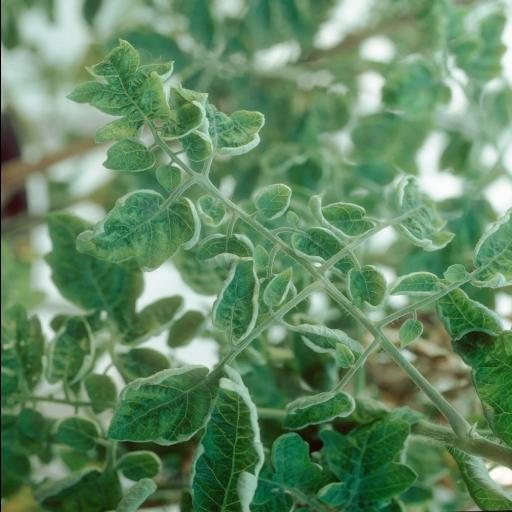Yellow Leaf Curl Virus: (62, 34, 180, 144), (187, 363, 266, 512), (70, 186, 200, 272), (103, 364, 215, 448), (447, 326, 512, 445), (174, 84, 266, 162), (393, 172, 453, 252), (210, 256, 262, 346), (465, 201, 512, 290), (43, 311, 95, 389), (288, 224, 362, 278), (429, 289, 505, 339), (280, 388, 356, 434), (306, 194, 378, 242), (292, 321, 366, 357), (190, 232, 260, 270), (344, 264, 390, 312), (248, 182, 294, 222), (388, 270, 442, 300)
